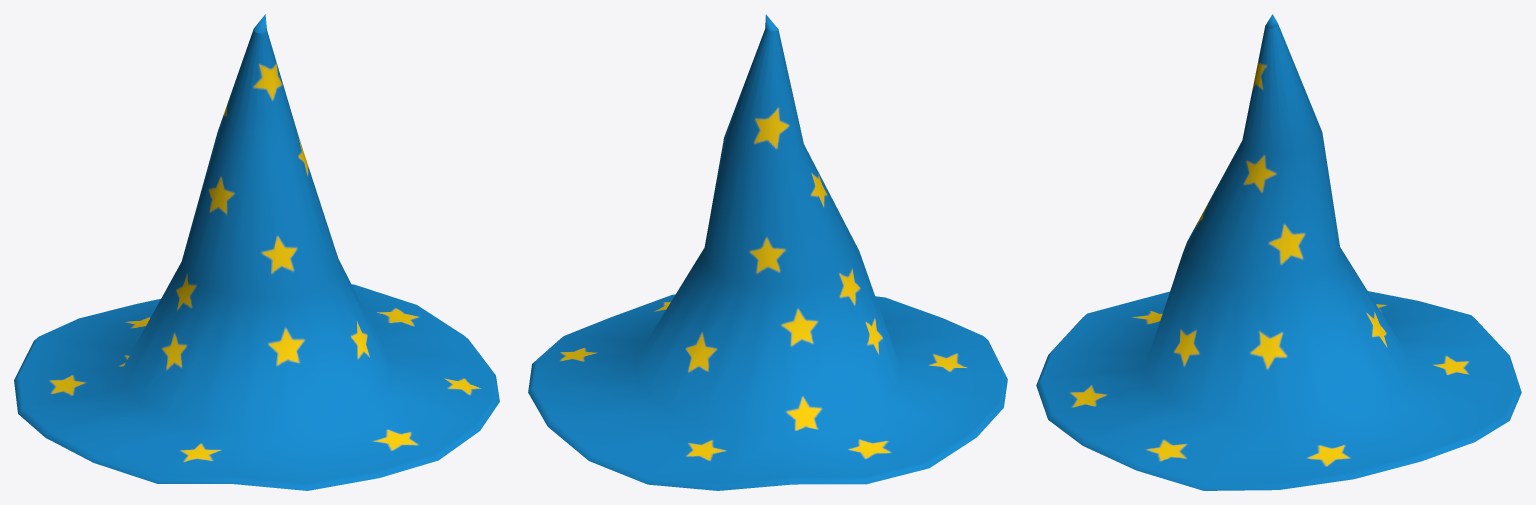
The model's file is wizard_hat.fbx.
The picture shows the model from 3 angles, left to right: view 1: azimuth 30°, elevation 25°; view 2: azimuth 150°, elevation 25°; view 3: azimuth 270°, elevation 25°; orthographic projection.
Visible parts, largest first — view 1: polySurface1; view 2: polySurface1; view 3: polySurface1.
Boxes of the visible parts, x1,y1,x2,y2 form: polySurface1: [14, 14, 499, 490]; polySurface1: [528, 14, 1007, 490]; polySurface1: [1036, 14, 1521, 490].
Size of the model in its own units: 2 by 1.74 by 2.
1 material, 1 textured.
